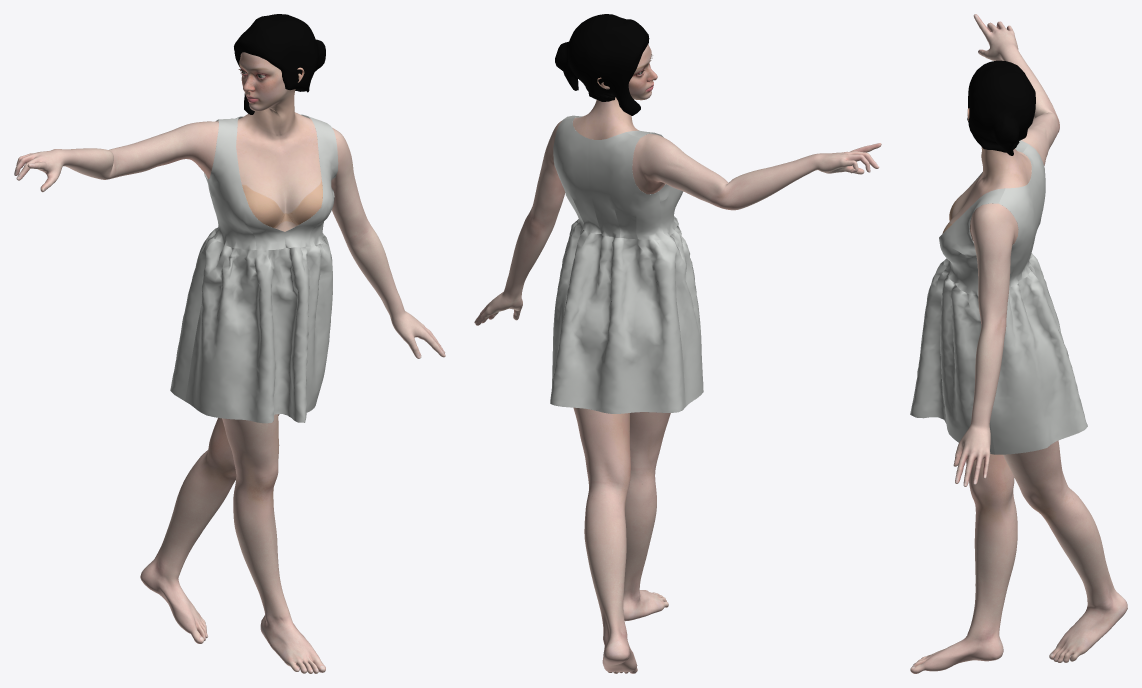
Rendered from random.obj.
3 renders of one model, left to right at view 1: azimuth 30°, elevation 25°; view 2: azimuth 150°, elevation 25°; view 3: azimuth 270°, elevation 25°, orthographic. The views are drawn at different scales.
Size of the model in its own units: 1226 by 1775 by 569.
